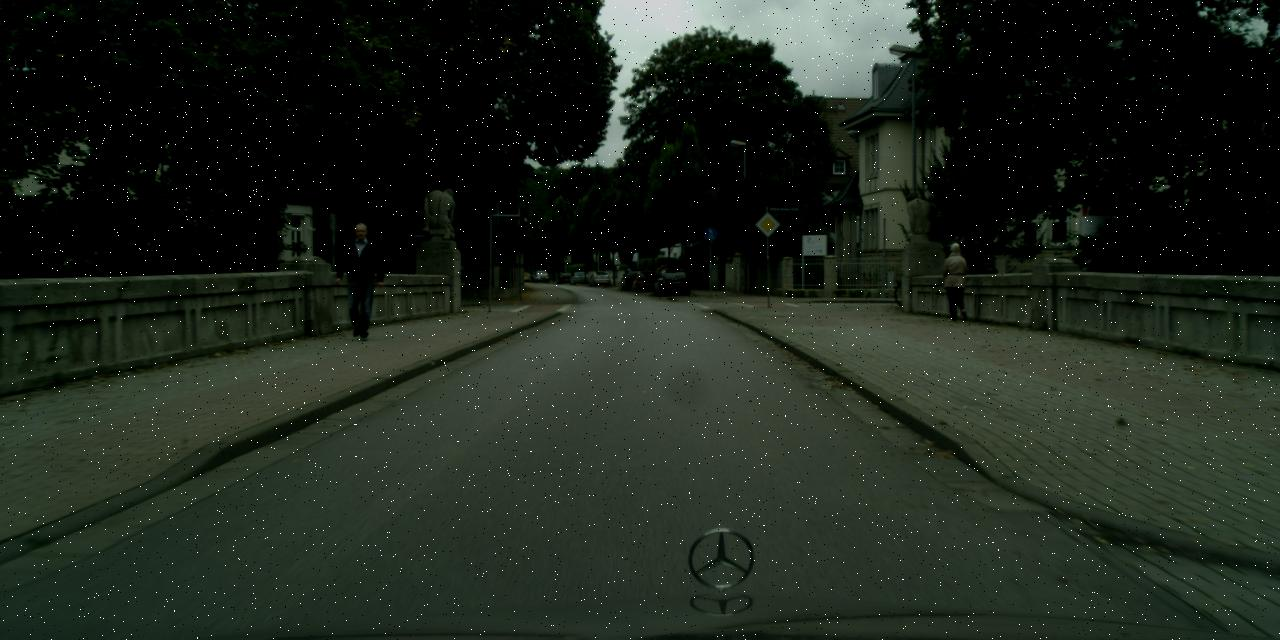ped: (337, 222, 384, 337), (942, 242, 973, 318)
